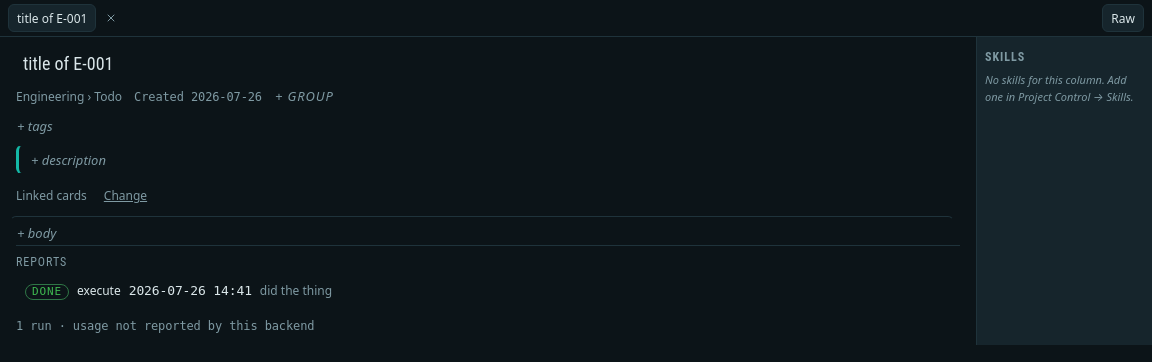
CardsPane › lists the card’s runs, and opens one in place of the card
Expected: the text "did the thing" is shown, [260, 282, 332, 299]
Click the button with class "report-open". click: (47,292)
box: [16, 275, 960, 307]
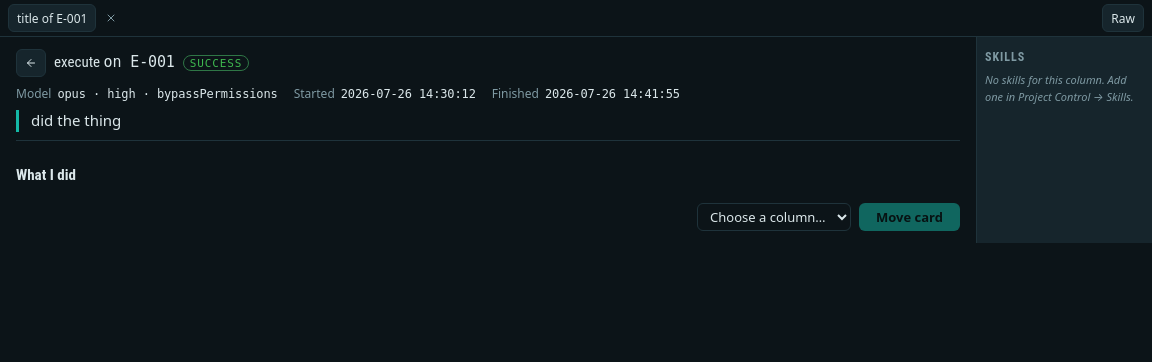
Result: the element named "Report from execute on E-001" is shown at [16, 49, 960, 231]
Result: the element with class "cardview" is gone
